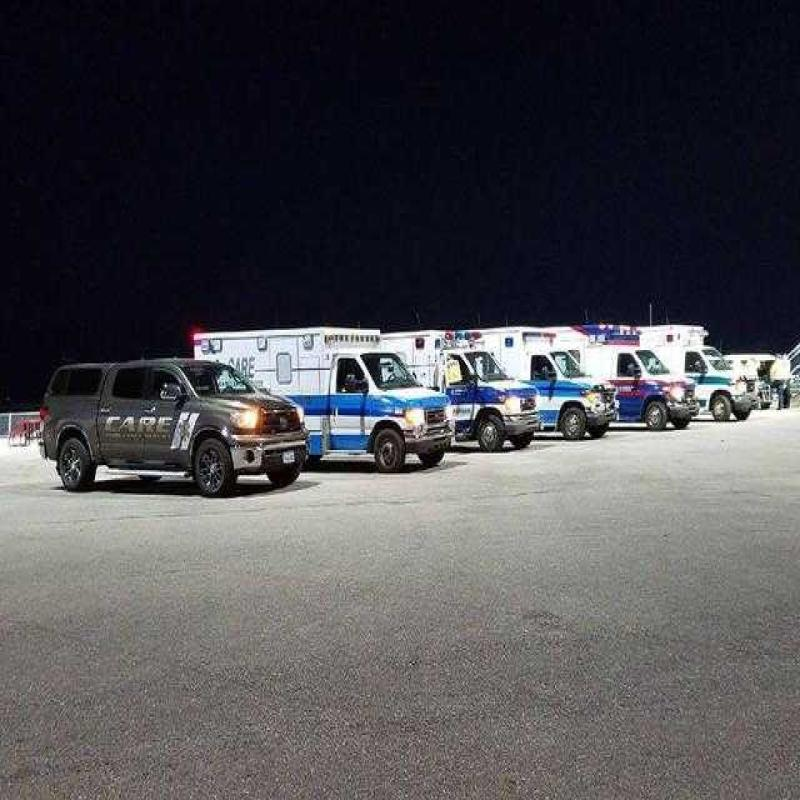AmbulanceSiren: (579, 315, 640, 350), (432, 327, 496, 354)
